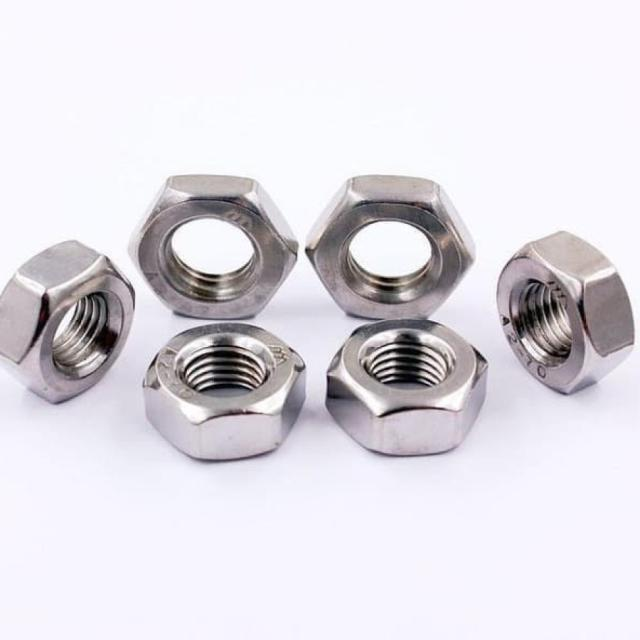Logam: (5, 144, 632, 498)
